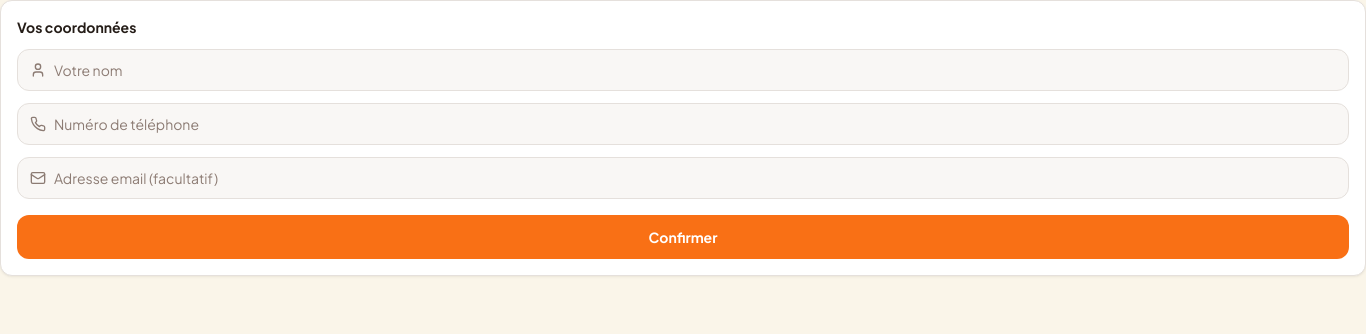
Scenario: keeps name and phone mandatory in the ordinary flow
The width and height of the screenshot is (1366, 334).
Click the button "Confirmer": (683, 237) [17,215,1349,259]
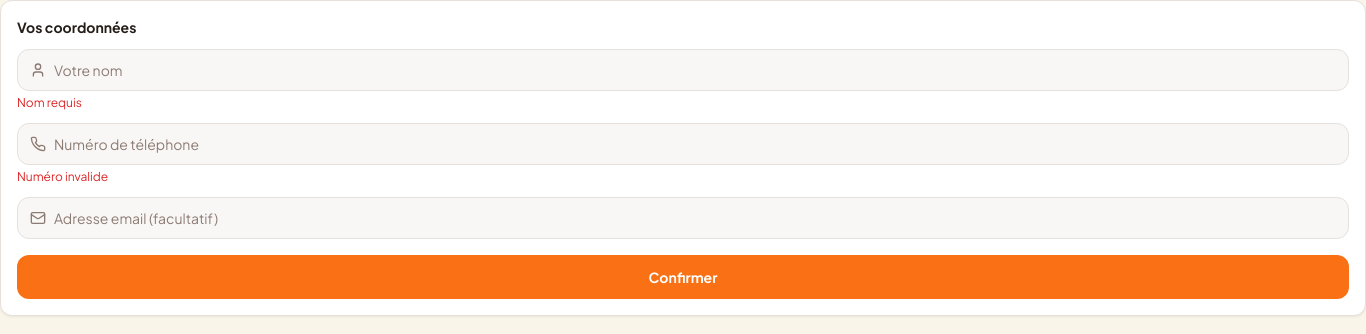
Result: the text "Nom requis" is shown at [17,95,82,110]
Result: the text "Numéro invalide" is shown at [17,169,108,184]
